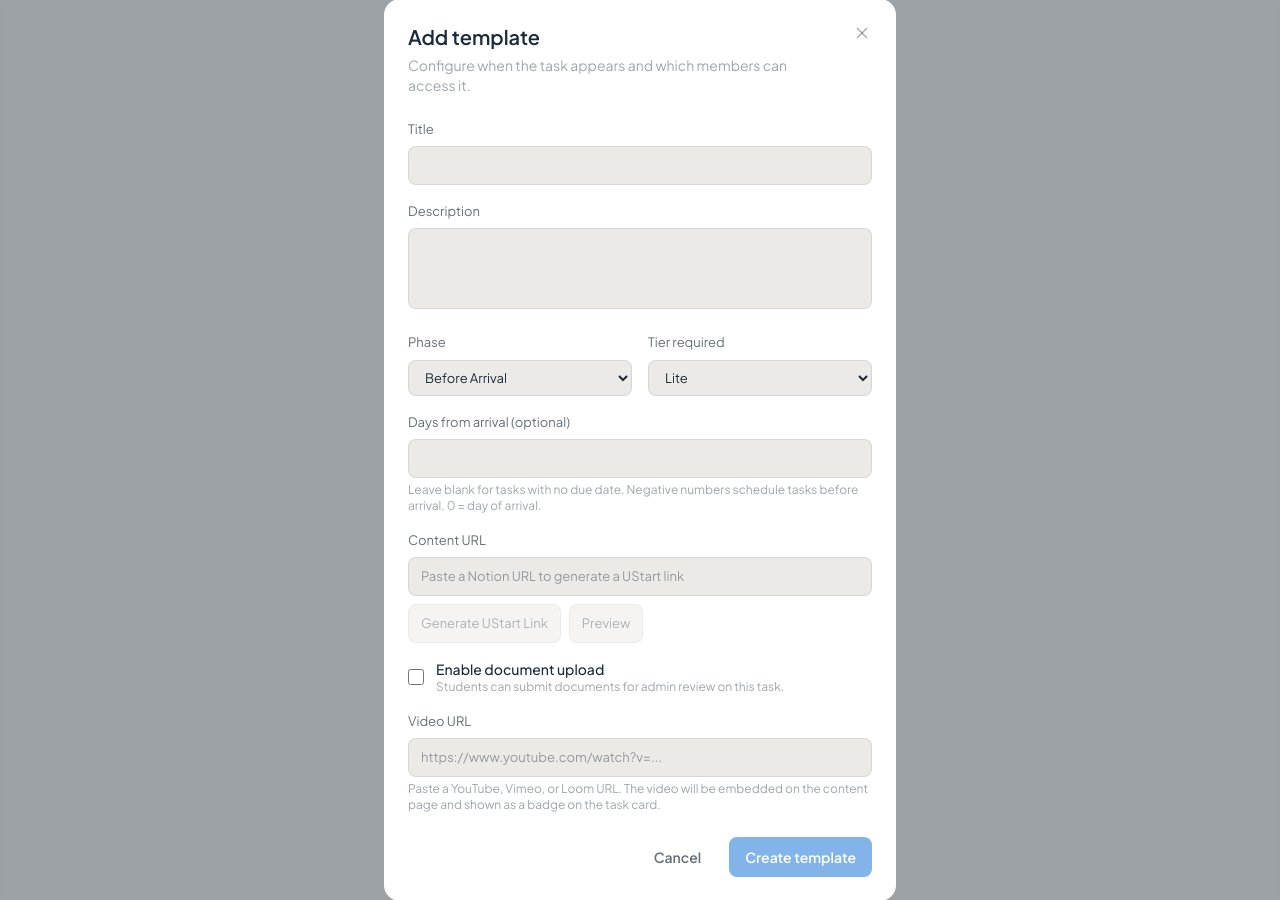
Test case: PlanTemplateModal › shows an error when Notion page is not accessible
Type "https://notion.so/Missing-Page-abc123" into the field named "content url" at (640, 576), box [408, 557, 872, 596]
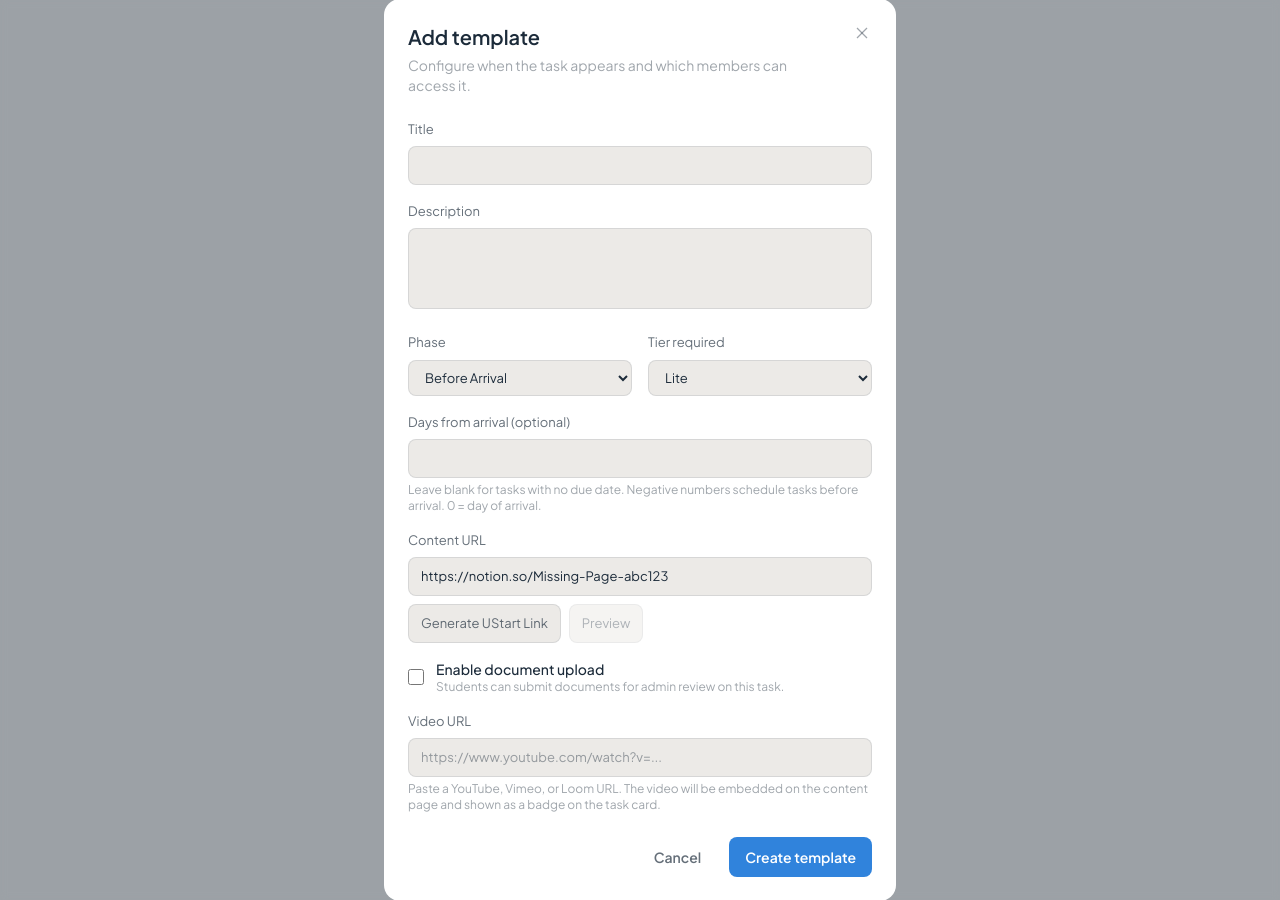
Click the button "Generate UStart Link" at (484, 624), box [408, 604, 561, 643]
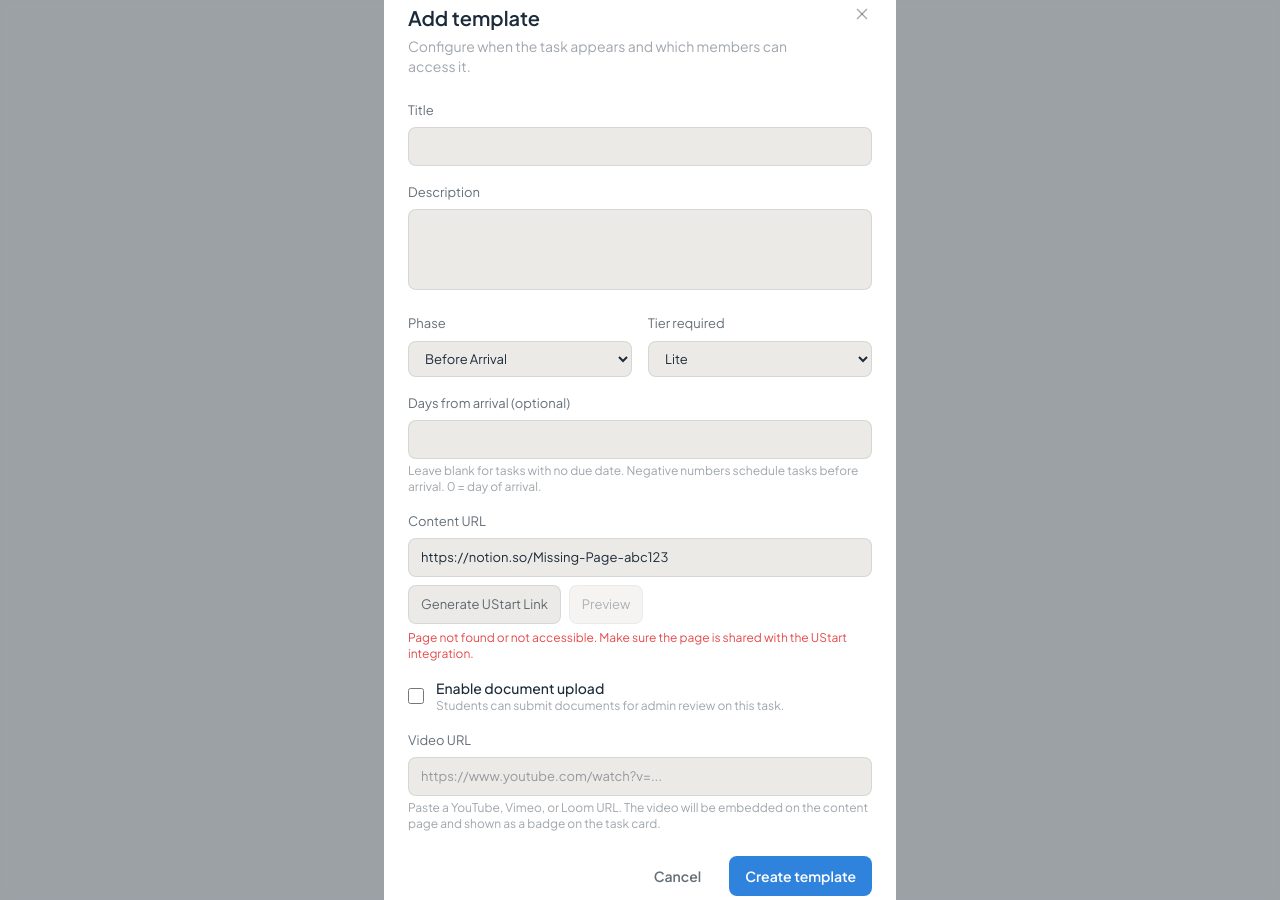
Now the text "Page not found or not accessible" is shown, box [408, 630, 847, 661]
